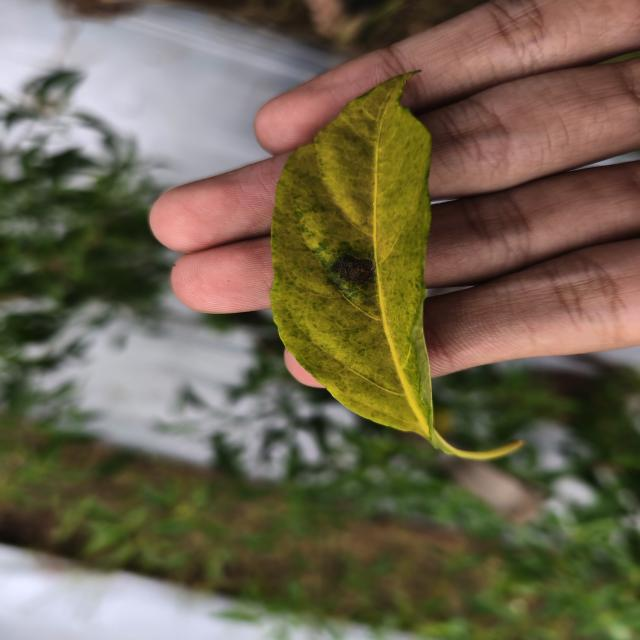Virus Kuning: (269, 70, 436, 435)
